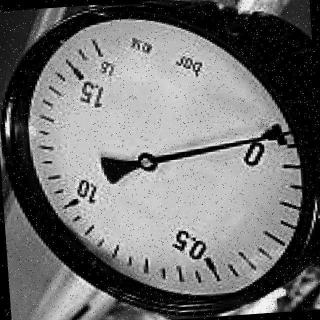gauge: (0, 0, 320, 320), (57, 46, 119, 93), (251, 114, 297, 160), (134, 150, 160, 172), (274, 126, 295, 144)
